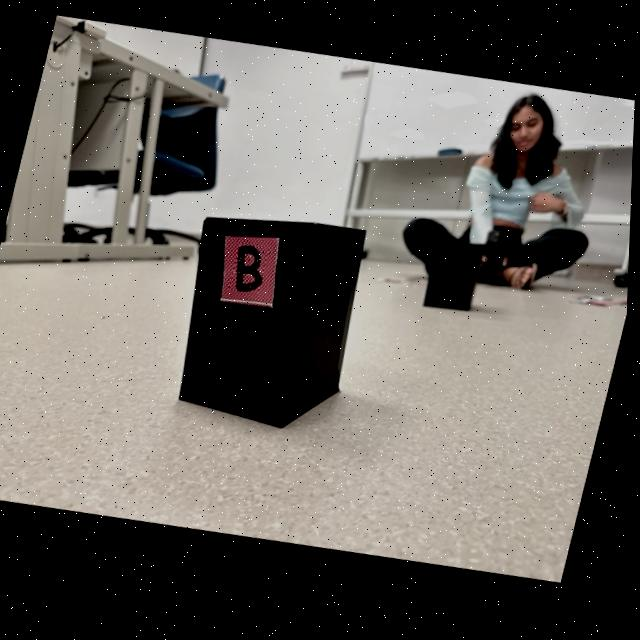B: (238, 248, 264, 295)
